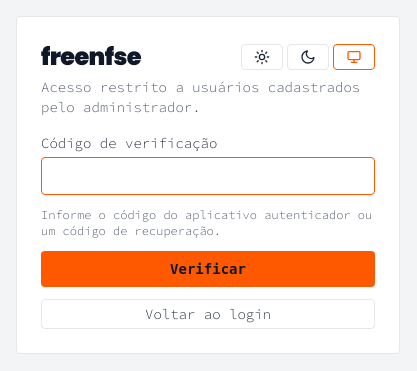
Test: login social com 2FA pendente › permite voltar ao login por senha em vez de informar o código
This screenshot has width=417, height=371.
Check: the field labelled "Código de verificação" is shown, box [41,157,375,195]
Click the button "Voltar ao login" at (208, 314), box [41,299,375,329]
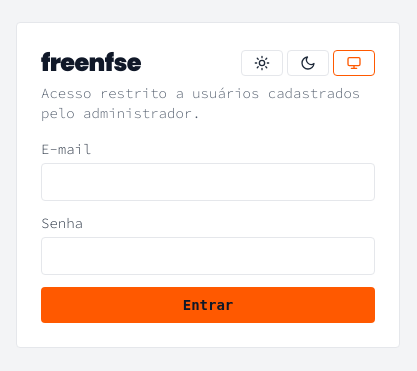
Check: the password field labelled "Senha" is shown, box [41,237,375,275]
Check: the label labelled "Código de verificação" is gone
